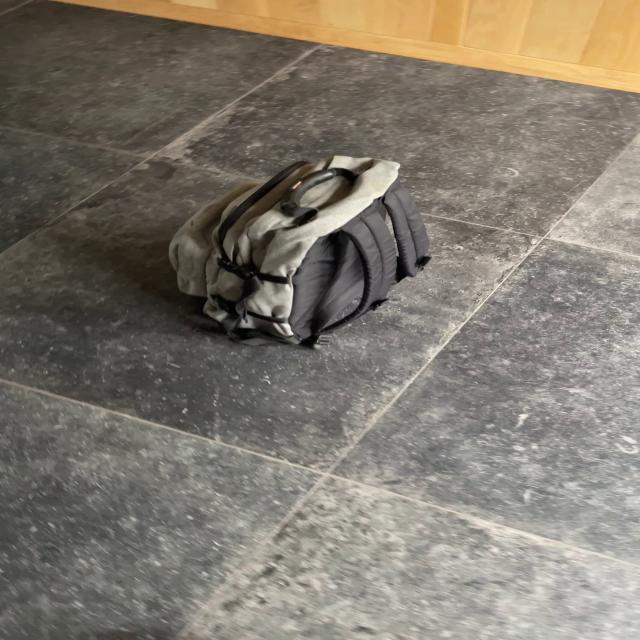backpack: (151, 147, 441, 347)
